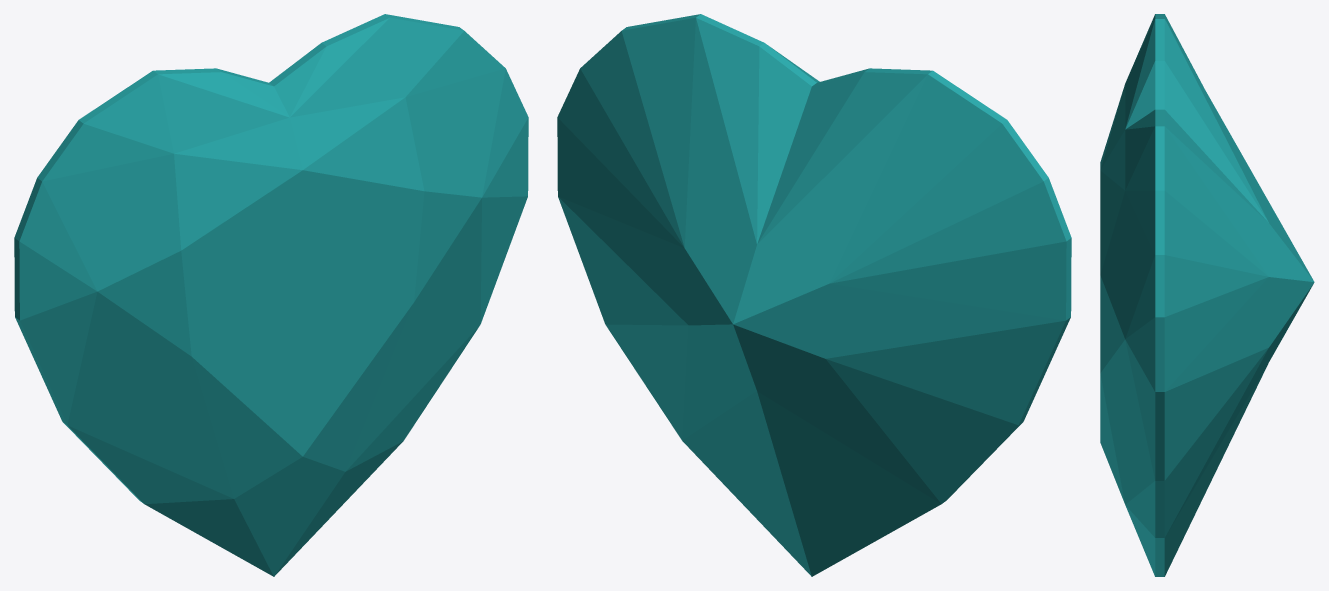
File: lana.glb
3 renders of one model, left to right at view 1: azimuth 30°, elevation 25°; view 2: azimuth 150°, elevation 25°; view 3: azimuth 270°, elevation 25°, orthographic. The views are drawn at different scales.
Visible parts, largest first — view 1: Lana; view 2: Lana; view 3: Lana.
Boxes of the visible parts, x1=… form: Lana: x1=14, y1=14, x2=528, y2=576; Lana: x1=557, y1=14, x2=1071, y2=576; Lana: x1=1100, y1=14, x2=1314, y2=576.
Size of the model in its own units: 2.24 by 2.24 by 0.8605.
